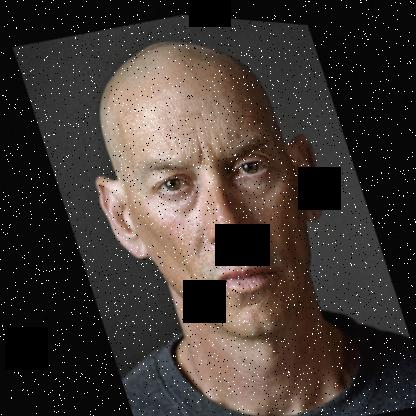Male: (48, 3, 364, 369)
